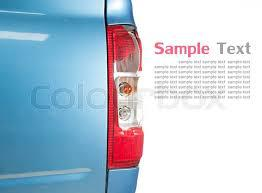Taillight-Damage: (103, 22, 143, 164)
